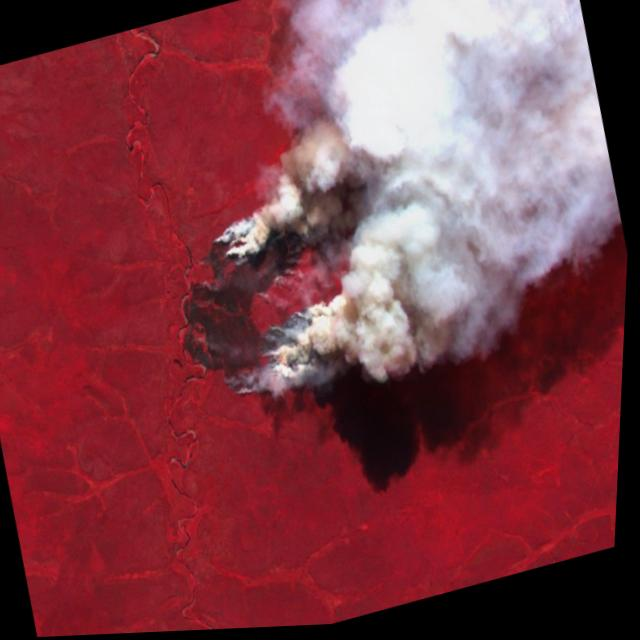fire: (144, 162, 377, 432)
